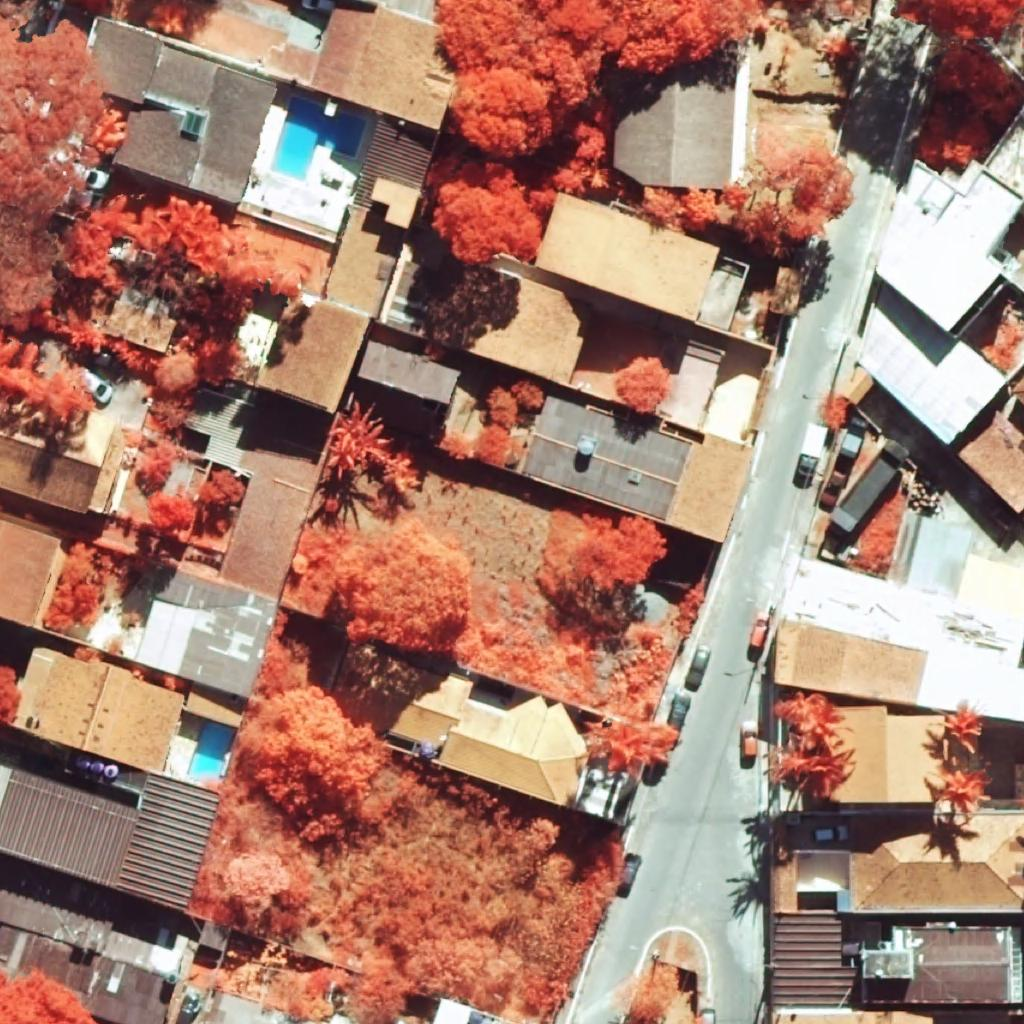pool: (271, 97, 366, 182), (187, 722, 235, 777)
